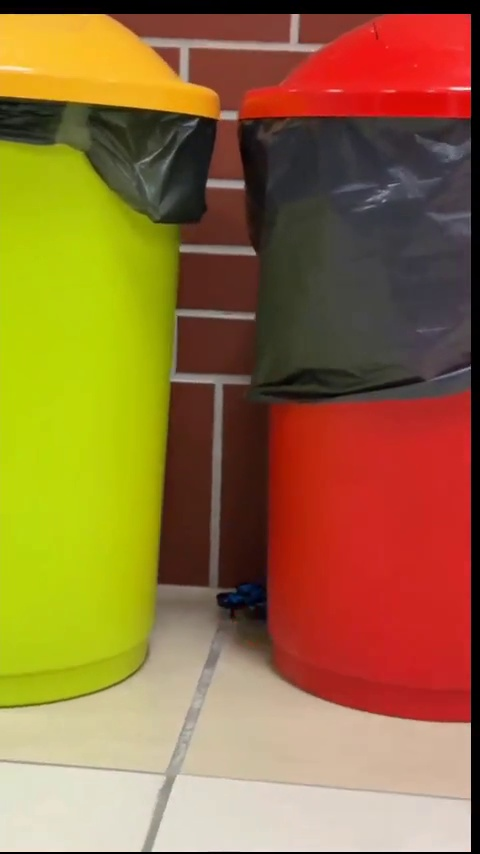drone: (217, 582, 260, 619)
